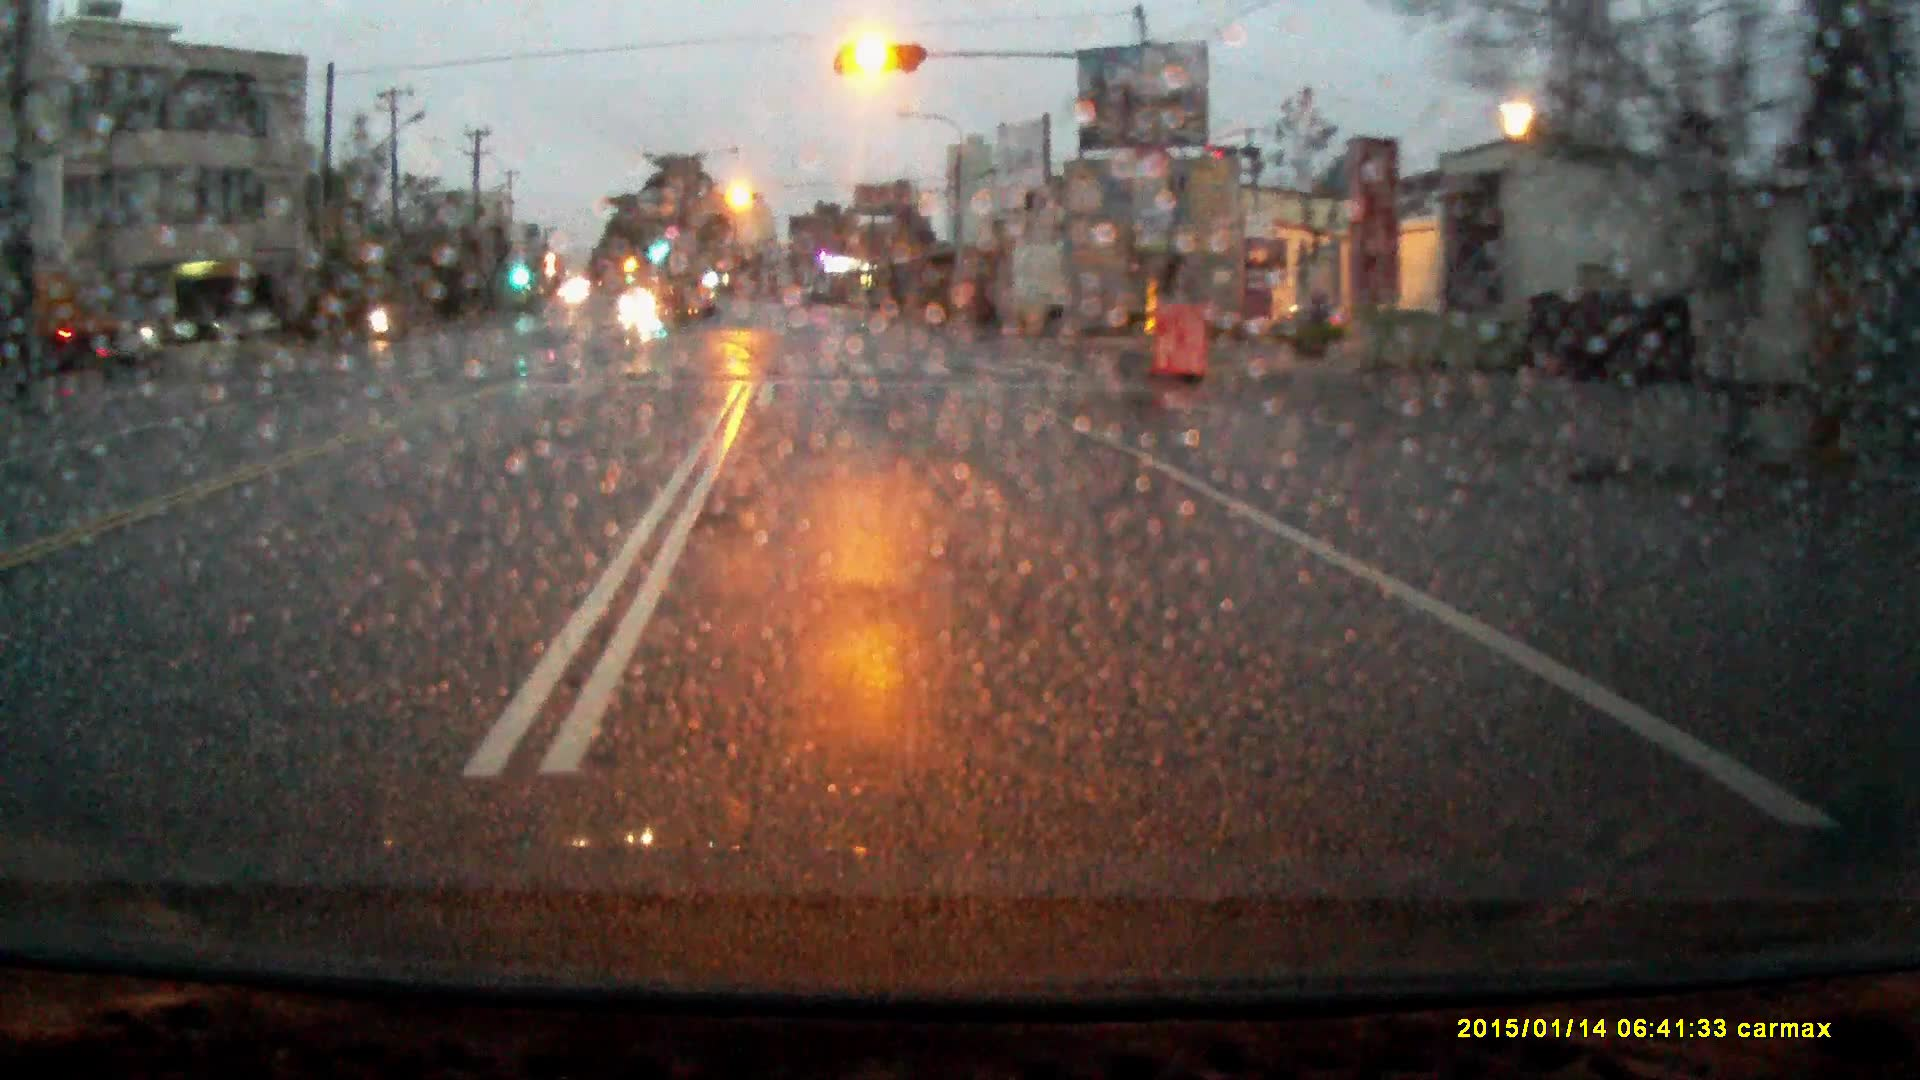rider: (367, 278, 394, 337)
vehicle: (1, 258, 110, 370), (619, 288, 658, 315)
